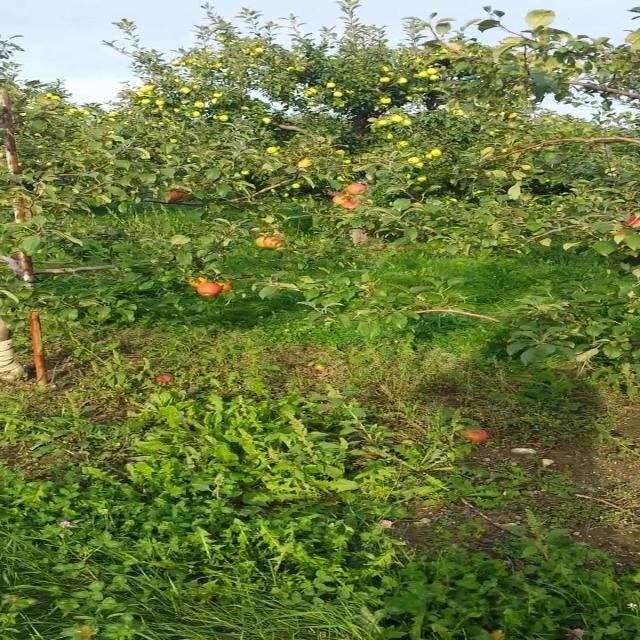apple: (198, 284, 220, 296), (348, 184, 368, 196), (625, 216, 639, 227), (170, 192, 183, 203), (77, 628, 94, 636), (269, 240, 284, 248), (220, 284, 235, 292), (333, 196, 348, 204), (191, 280, 204, 288), (255, 240, 265, 248), (348, 204, 359, 208)
